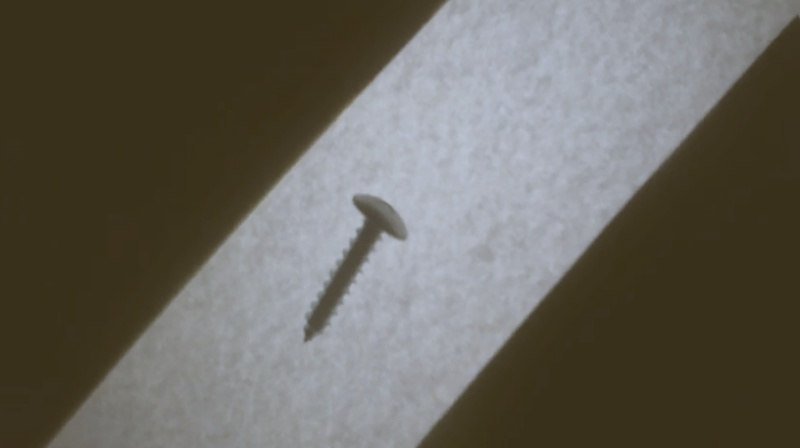S003: (299, 190, 410, 346)
